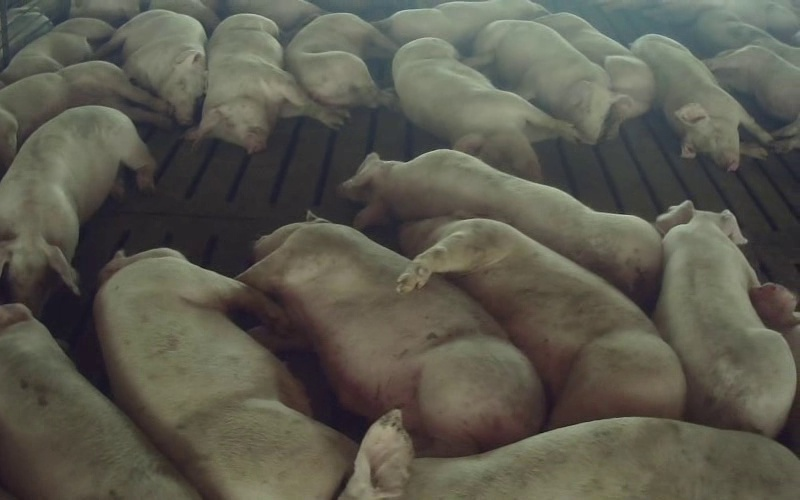pig: (239, 219, 544, 454), (94, 248, 355, 499), (398, 217, 685, 427), (339, 149, 662, 305), (341, 410, 799, 499), (654, 201, 795, 436), (0, 106, 153, 314), (392, 38, 577, 180), (187, 14, 347, 153), (0, 61, 171, 176), (475, 20, 633, 143), (631, 34, 771, 170), (96, 10, 206, 124), (535, 13, 654, 115), (285, 13, 396, 107), (374, 0, 547, 46), (0, 18, 114, 84)
